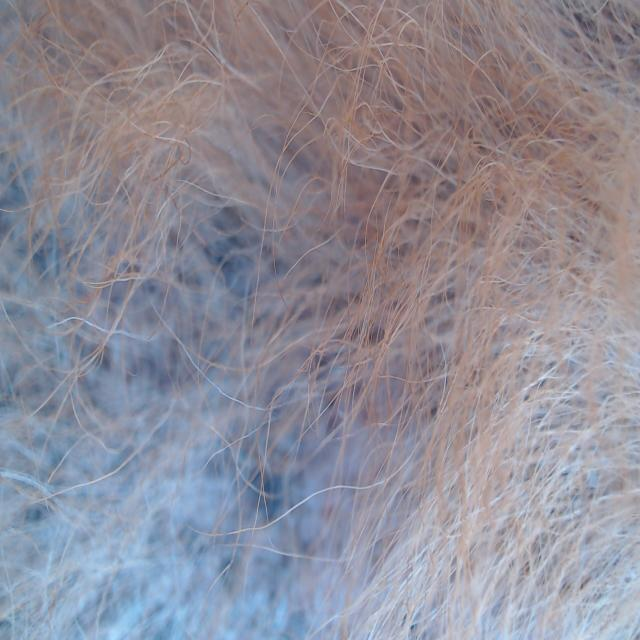demodicosis: (41, 201, 335, 626)
